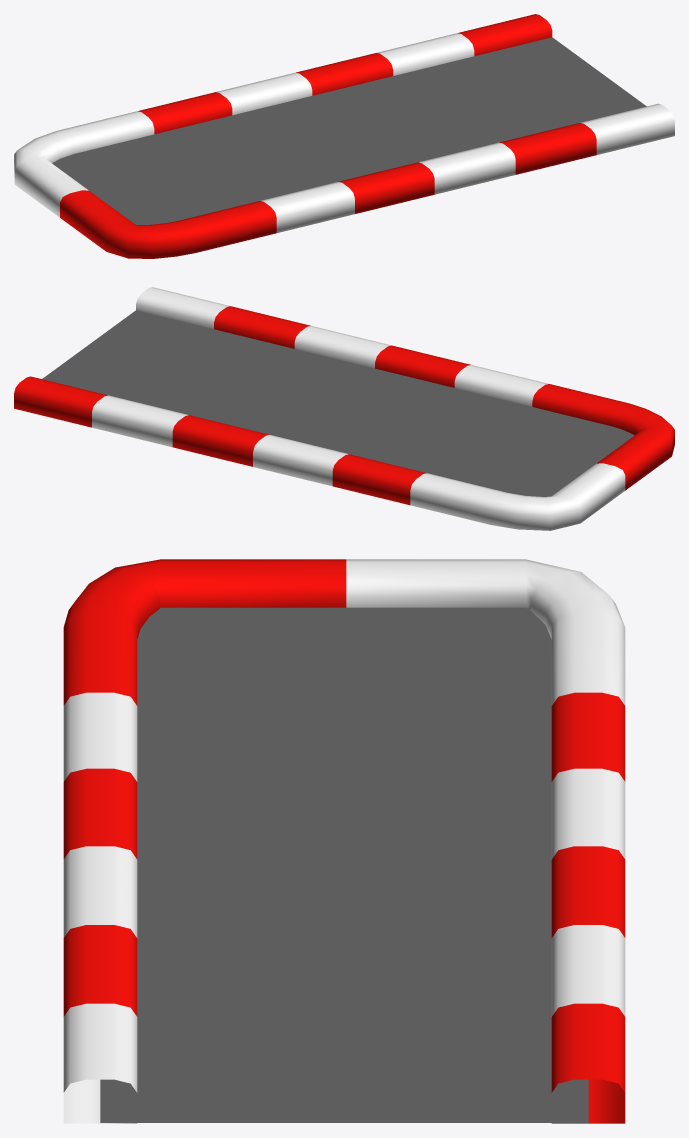
File: EndTrack01.fbx
3 views of the same model, one above another, from view 1: azimuth 30°, elevation 25°; view 2: azimuth 150°, elevation 25°; view 3: azimuth 270°, elevation 25° (orthographic). The views are drawn at different scales.
Visible parts, largest first — view 1: EndTrack01; view 2: EndTrack01; view 3: EndTrack01.
Part boxes in pixels (box(x1,y1,x2,y2)): EndTrack01: box(14, 14, 674, 258); EndTrack01: box(14, 287, 674, 530); EndTrack01: box(63, 559, 625, 1123).
Size of the model in its own units: 4614 by 185 by 2072.
